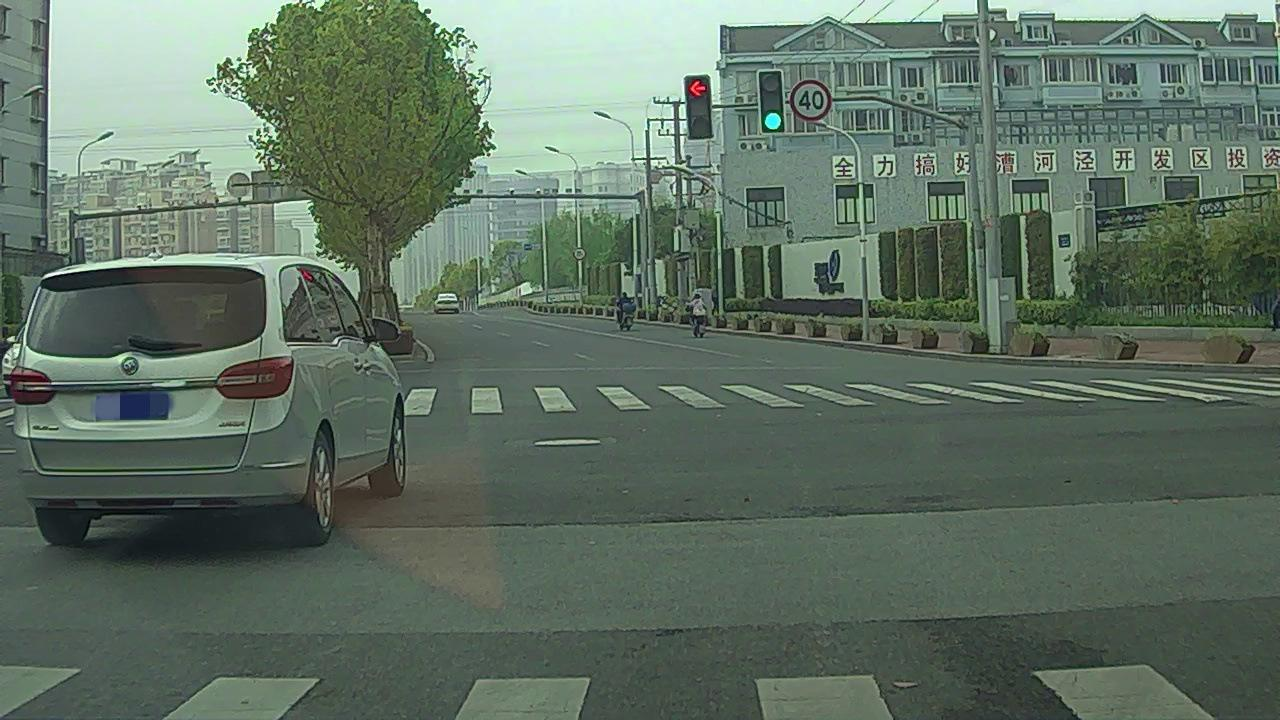traffic_light: (686, 77, 713, 138), (760, 72, 785, 133)
